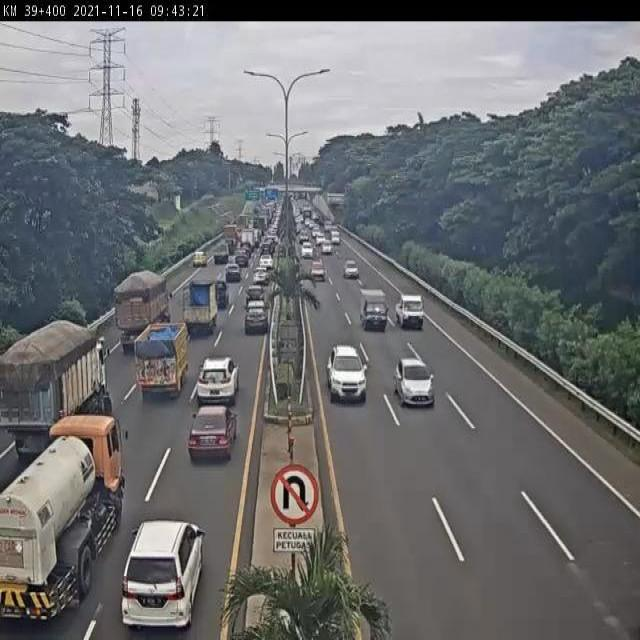car: (122, 521, 206, 632), (188, 403, 235, 465), (327, 343, 367, 405), (195, 353, 239, 407), (393, 358, 436, 410), (359, 287, 388, 332), (395, 289, 425, 328), (244, 297, 270, 336), (213, 278, 229, 314), (244, 283, 266, 309), (225, 261, 243, 284), (251, 265, 269, 288), (309, 260, 326, 283), (344, 259, 359, 280)
small truck: (135, 321, 190, 403), (180, 279, 217, 340)
truck-m-: (0, 412, 124, 625), (0, 320, 109, 463), (116, 268, 171, 355)
